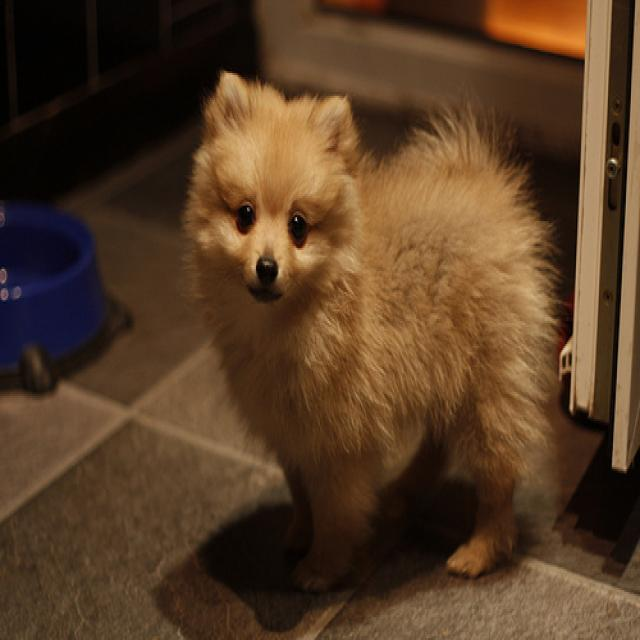dog-pomeranian: (179, 58, 564, 600)
